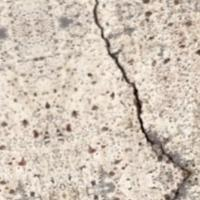crack: (84, 0, 194, 199)
